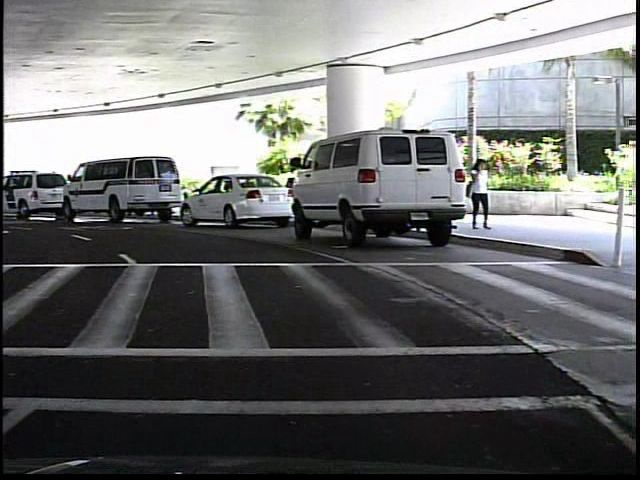person: (467, 154, 493, 228)
